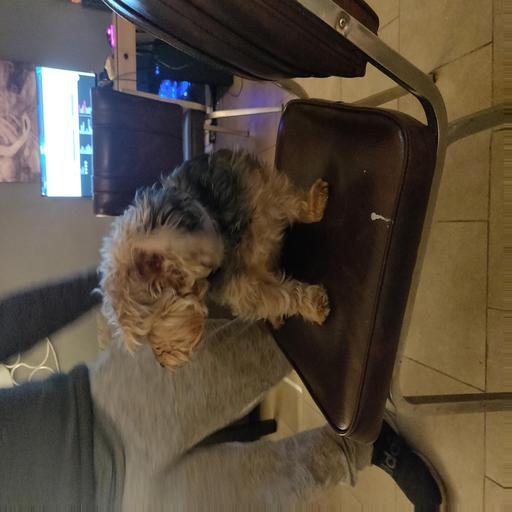dog: (99, 151, 313, 365)
